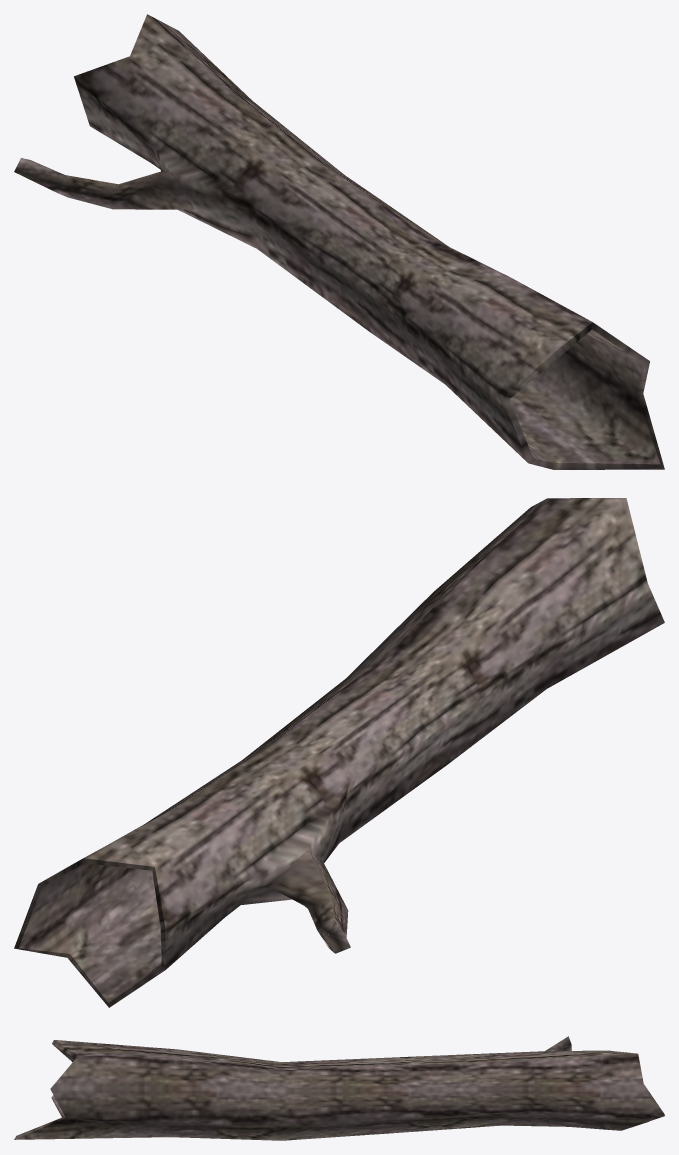
Rendered from Tree08.obj.
The picture shows the model from 3 angles, top to bottom: view 1: azimuth 30°, elevation 25°; view 2: azimuth 150°, elevation 25°; view 3: azimuth 270°, elevation 25°; orthographic projection. The views are drawn at different scales.
Visible parts, largest first — view 1: Mesh_0; view 2: Mesh_0; view 3: Mesh_0.
Part boxes in pixels (<box>): Mesh_0: <box>14,14,664,469</box>; Mesh_0: <box>14,498,664,1007</box>; Mesh_0: <box>14,1036,664,1140</box>.
Size of the model in its own units: 1.67 by 0.8755 by 5.96.
1 material, 1 textured.
